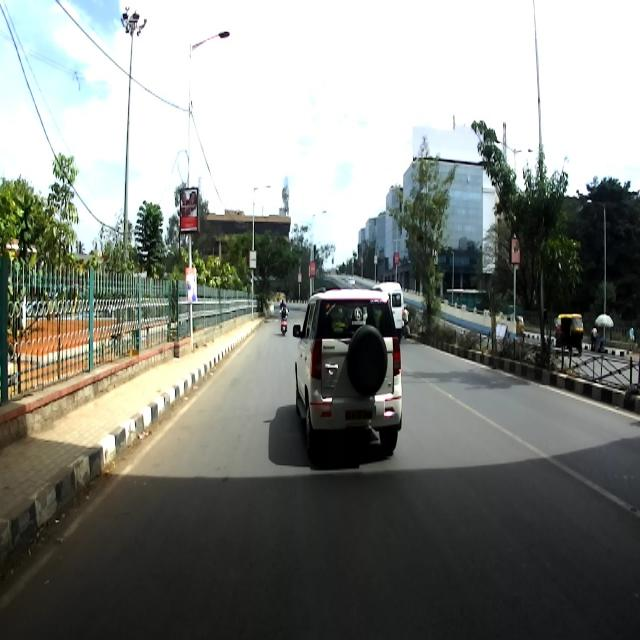autorickshaw: (556, 312, 584, 353), (505, 304, 525, 337)
bus: (445, 287, 491, 313)
car: (292, 286, 402, 464)
mini-bus: (370, 280, 405, 340)
scooter: (279, 309, 289, 335)
